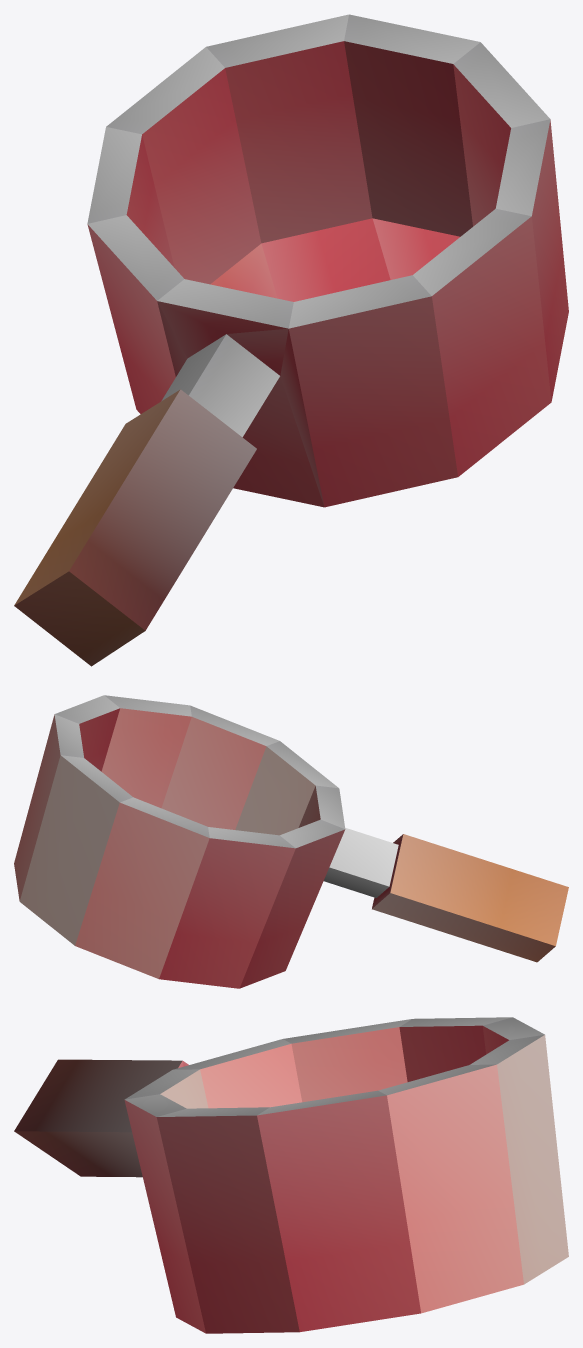
The model's file is pot01.fbx.
3 renders of one model, top to bottom at view 1: azimuth 30°, elevation 25°; view 2: azimuth 150°, elevation 25°; view 3: azimuth 270°, elevation 25°, orthographic. The views are drawn at different scales.
Visible parts, largest first — view 1: pot01; view 2: pot01; view 3: pot01.
Part boxes in pixels (x1=…): pot01: x1=14, y1=14, x2=568, y2=666; pot01: x1=14, y1=695, x2=568, y2=988; pot01: x1=14, y1=1017, x2=568, y2=1333.
Bounding box in the file's own units: 171 × 90.72 × 140.
